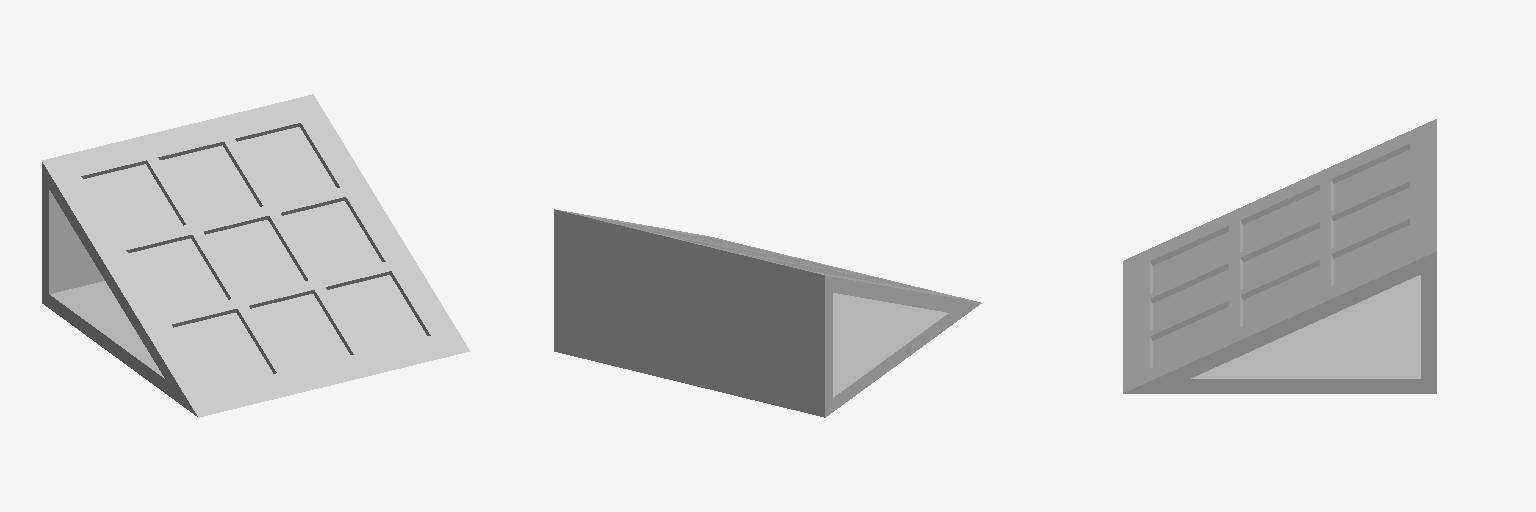
Rendered from solar_panel.obj.
3 views of the same model, side by side, from view 1: azimuth 30°, elevation 25°; view 2: azimuth 150°, elevation 25°; view 3: azimuth 270°, elevation 25° (orthographic).
Parts seen in each view (by area): view 1: Cube; view 2: Cube; view 3: Cube.
Boxes of the visible parts, <box> form: Cube: <box>42,94,469,417</box>; Cube: <box>554,209,981,417</box>; Cube: <box>1123,119,1436,393</box>.
Size of the model in its own units: 1.5 by 0.75 by 1.5.